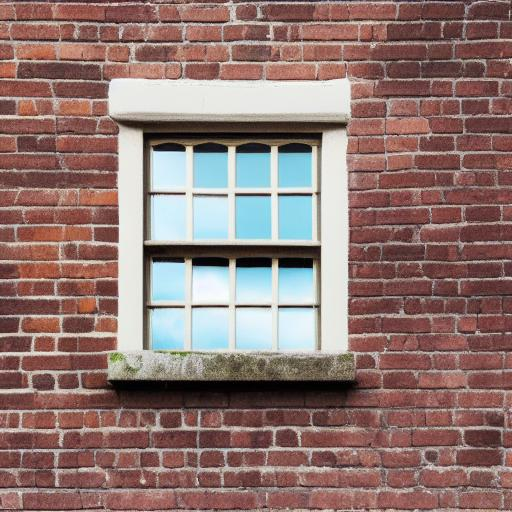Window: (105, 76, 361, 386)
